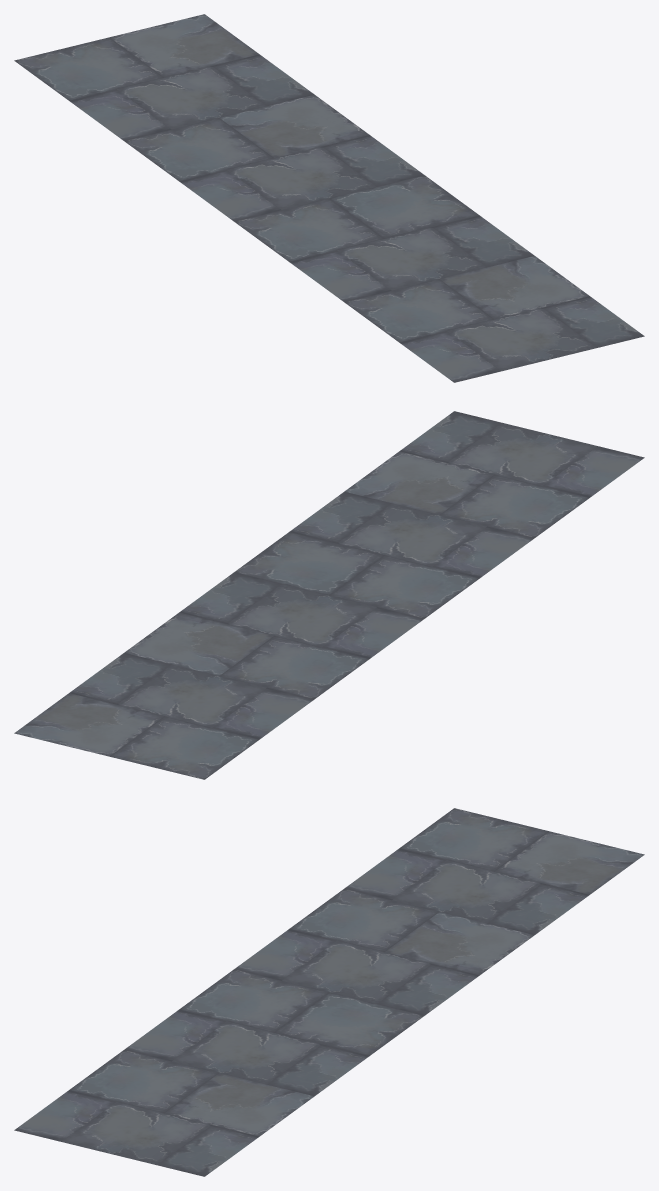
Rendered from Castle Ground X Bright 2x8.fbx.
3 views of the same model, one above another, from view 1: azimuth 30°, elevation 25°; view 2: azimuth 150°, elevation 25°; view 3: azimuth 330°, elevation 25° (orthographic).
Visible parts, largest first — view 1: Castle Ground X Bright 2x8; view 2: Castle Ground X Bright 2x8; view 3: Castle Ground X Bright 2x8.
Boxes of the visible parts, left/top/right/bottom form: Castle Ground X Bright 2x8: left=14, top=14, right=644, bottom=382; Castle Ground X Bright 2x8: left=14, top=411, right=644, bottom=779; Castle Ground X Bright 2x8: left=14, top=808, right=644, bottom=1176.
Bounding box in the file's own units: 1.5 × 8.05e-07 × 6.
